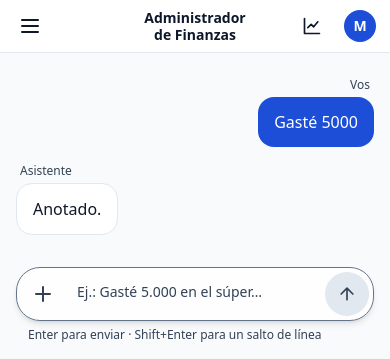
la foto del perfil (en la esquina) abre su menú › en el encabezado es solo la foto (con su nombre accesible) y abre «Panel de debug» y «Cerrar sesión»
The width and height of the screenshot is (390, 359).
What coordinates should you click on to do the following:
click the button named "Cuenta de Mateo"
I would click on:
 (360, 26)
Its box is [338,4,382,48].
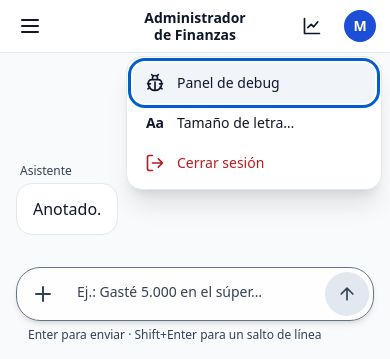
Check: the menu item "Panel de debug" is shown, box [133,63,375,103]
Check: the menu item "Cerrar sesión" is shown, box [133,143,375,183]
